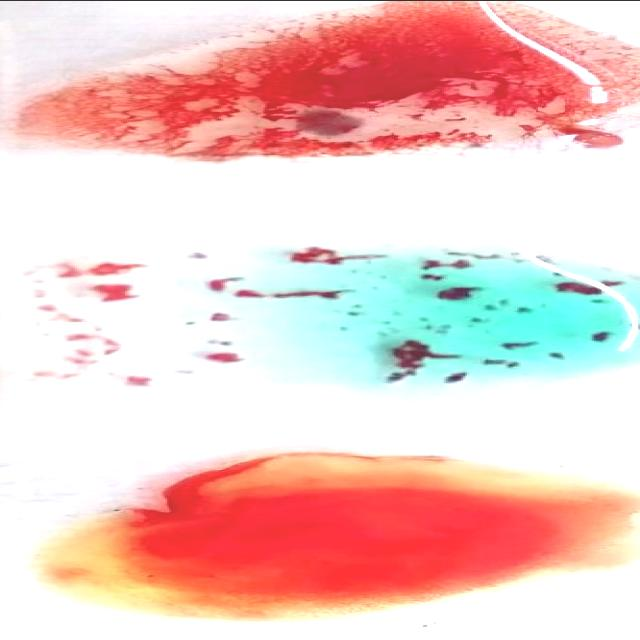A: (2, 240, 630, 396)
D: (8, 0, 634, 158)
